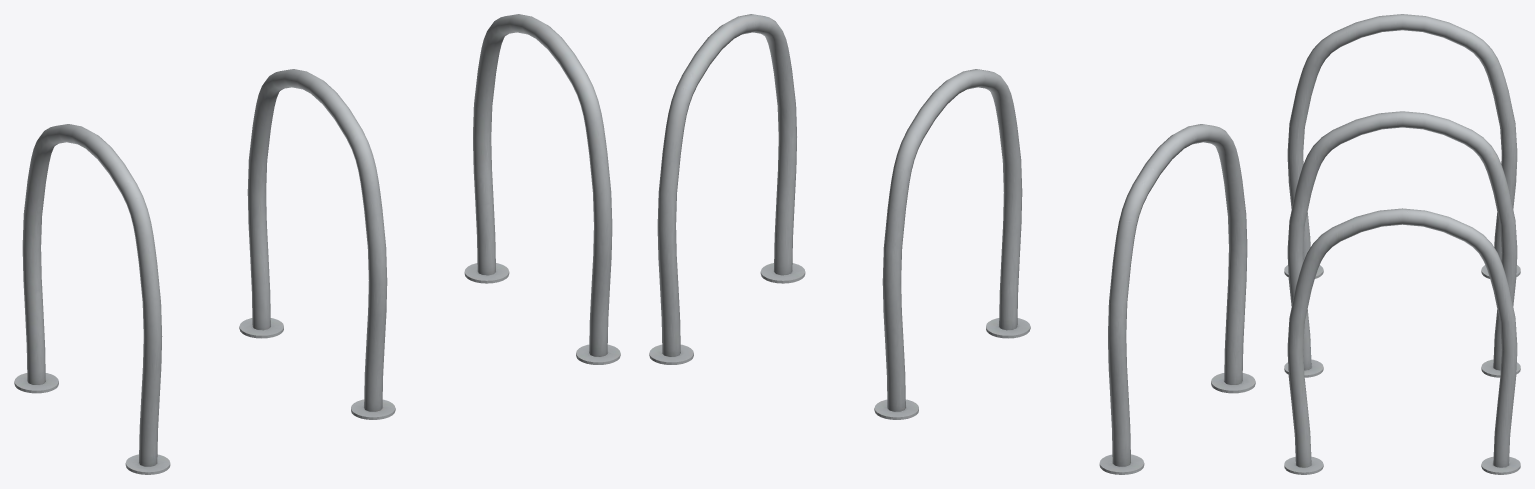
The model's file is steel-three.glb.
The picture shows the model from 3 angles, left to right: view 1: azimuth 30°, elevation 25°; view 2: azimuth 150°, elevation 25°; view 3: azimuth 270°, elevation 25°; orthographic projection. The views are drawn at different scales.
Visible parts, largest first — view 1: steel; view 2: steel; view 3: steel.
Boxes of the visible parts, bbox=[...] form: steel: bbox=[14, 14, 620, 474]; steel: bbox=[649, 14, 1255, 474]; steel: bbox=[1284, 14, 1520, 474].
Size of the model in its own units: 1.52 by 0.8632 by 0.72.
Materials: 1 (1 with a texture image).
